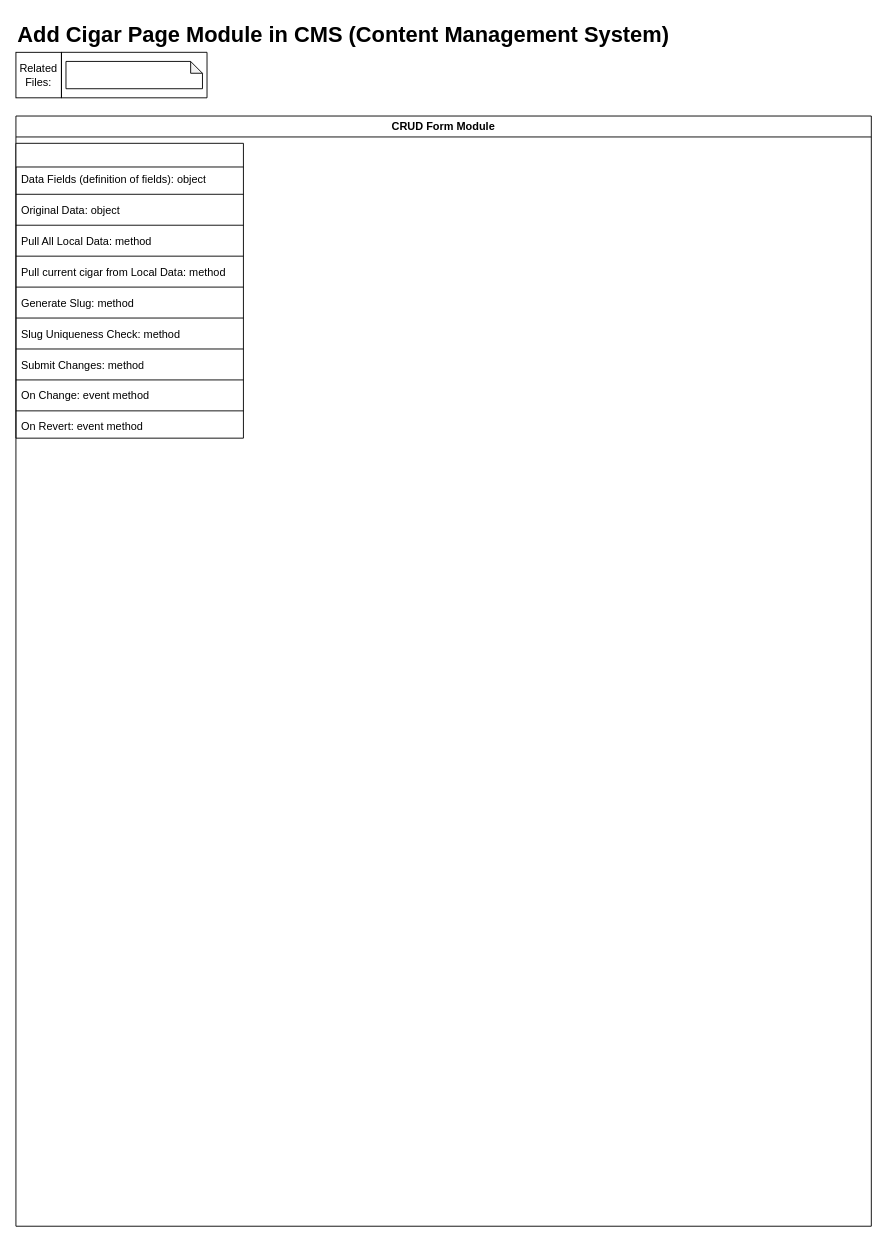
This 896x1242 diagram has some shape labels left out. Each missing label, with the box of its shape:
components/crudForm.js: (65, 61, 202, 89)
Props: (15, 142, 243, 438)
